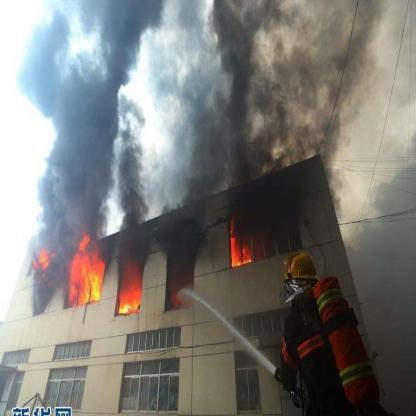fire: (224, 202, 291, 266), (63, 230, 106, 302), (164, 246, 199, 306), (116, 254, 146, 315), (32, 242, 61, 282)
smoke: (26, 3, 362, 197)
